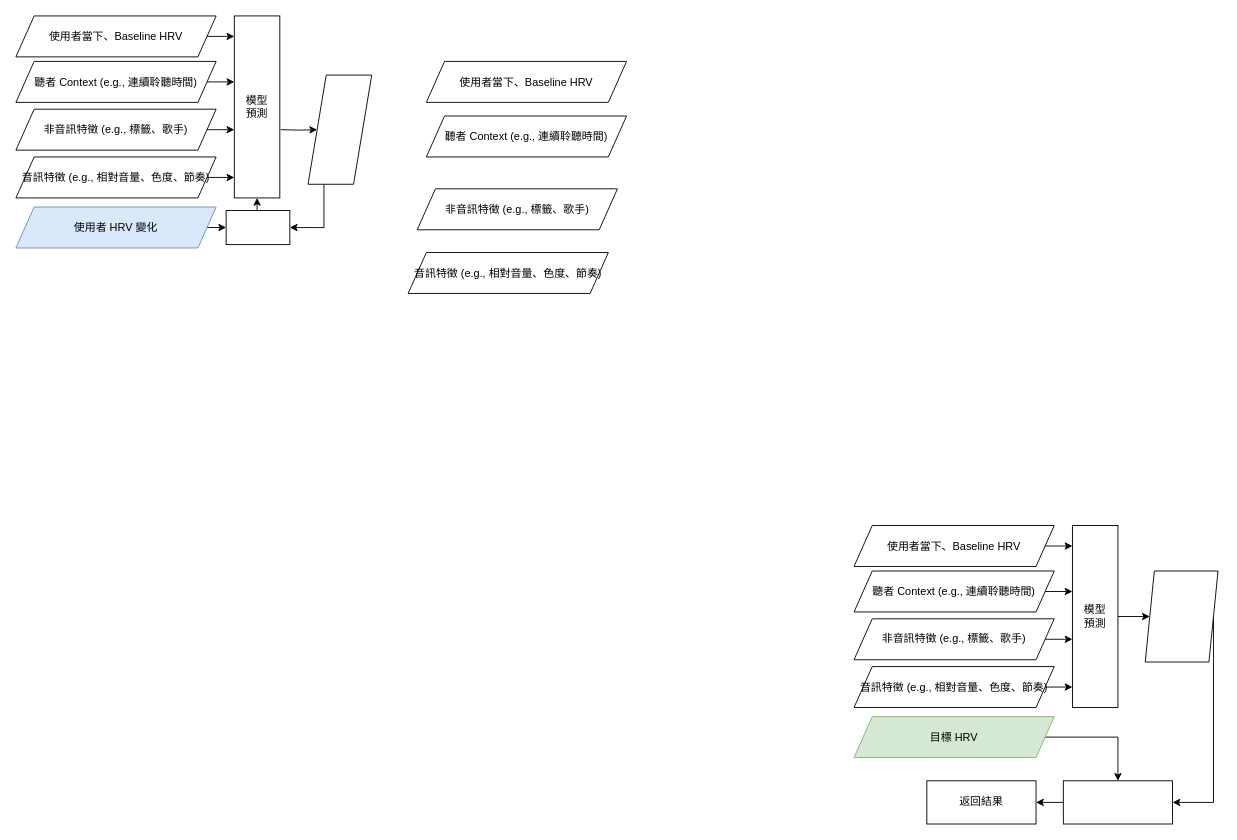
This 1237x840 diagram has some shape labels left out. The centre of each missing label's shape, as x and y in pixels:
HRV 變化: the point at 1181,616
依距離排序: the point at 1117,802
回饋: the point at 257,227
預測 HRV: the point at 339,129
